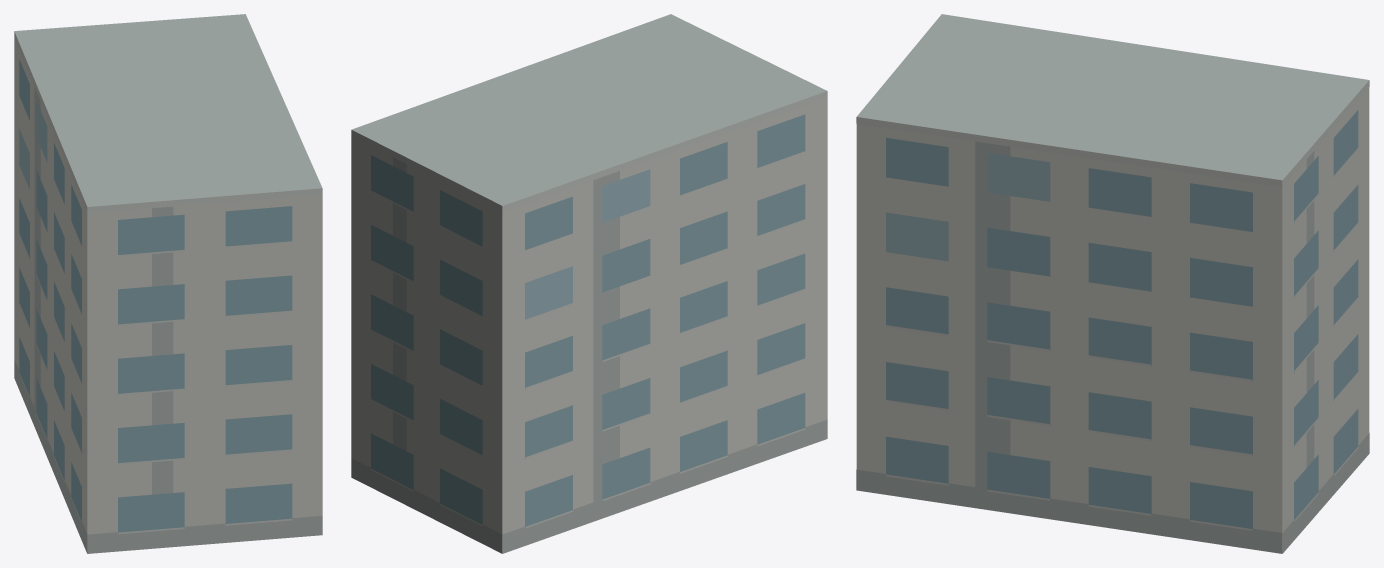
File: survey-upis-32882606.glb
The picture shows the model from 3 angles, left to right: view 1: azimuth 30°, elevation 25°; view 2: azimuth 150°, elevation 25°; view 3: azimuth 270°, elevation 25°; orthographic projection. The views are drawn at different scales.
Visible parts, largest first — view 1: survey-upis-32882606.tmp; view 2: survey-upis-32882606.tmp; view 3: survey-upis-32882606.tmp.
Part boxes in pixels (x1=…): survey-upis-32882606.tmp: x1=14, y1=14, x2=322, y2=553; survey-upis-32882606.tmp: x1=351, y1=14, x2=827, y2=553; survey-upis-32882606.tmp: x1=856, y1=14, x2=1369, y2=553.
Bounding box in the file's own units: 12.66 × 13.25 × 16.5.
